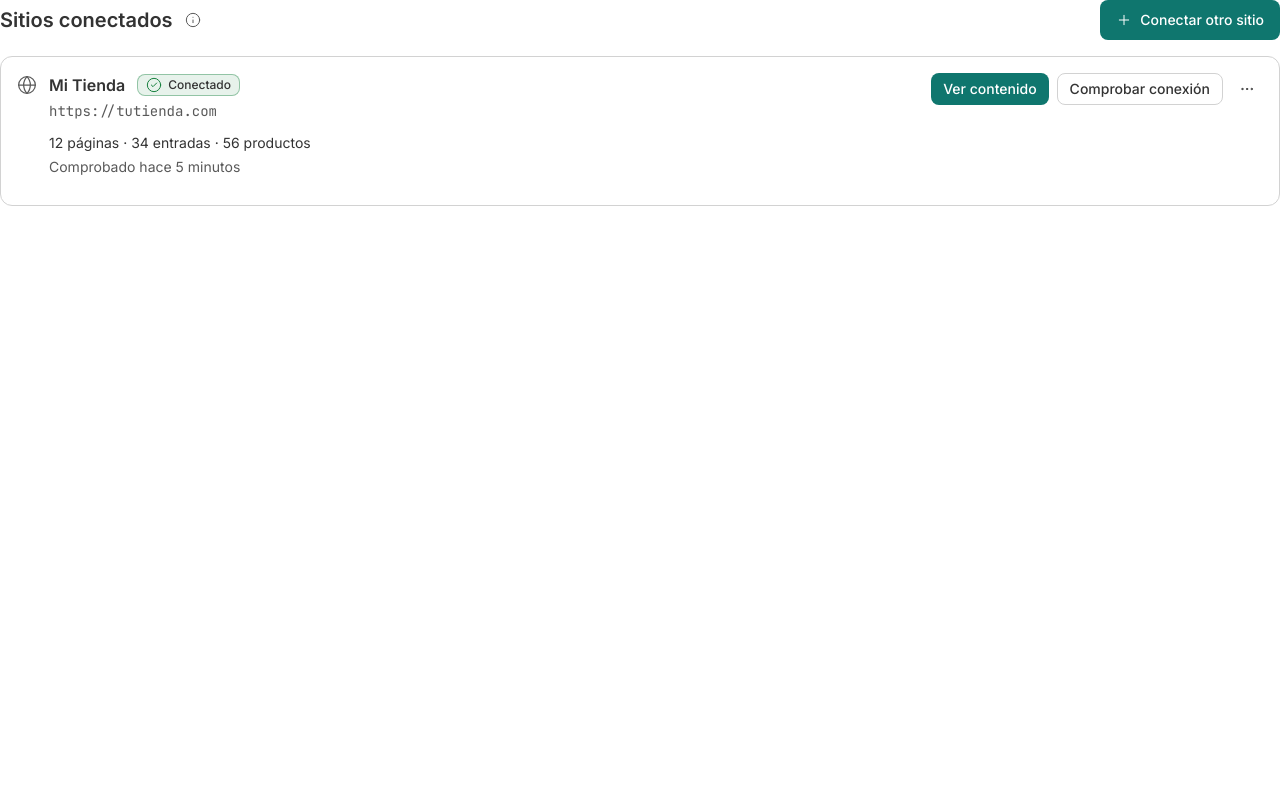
Test: Configuración → Sitios conectados › desconectar y quitar › Cancelar no quita nada
Click the button named "Más acciones para Mi Tienda".
click(1247, 89)  # box [1231,73,1263,105]
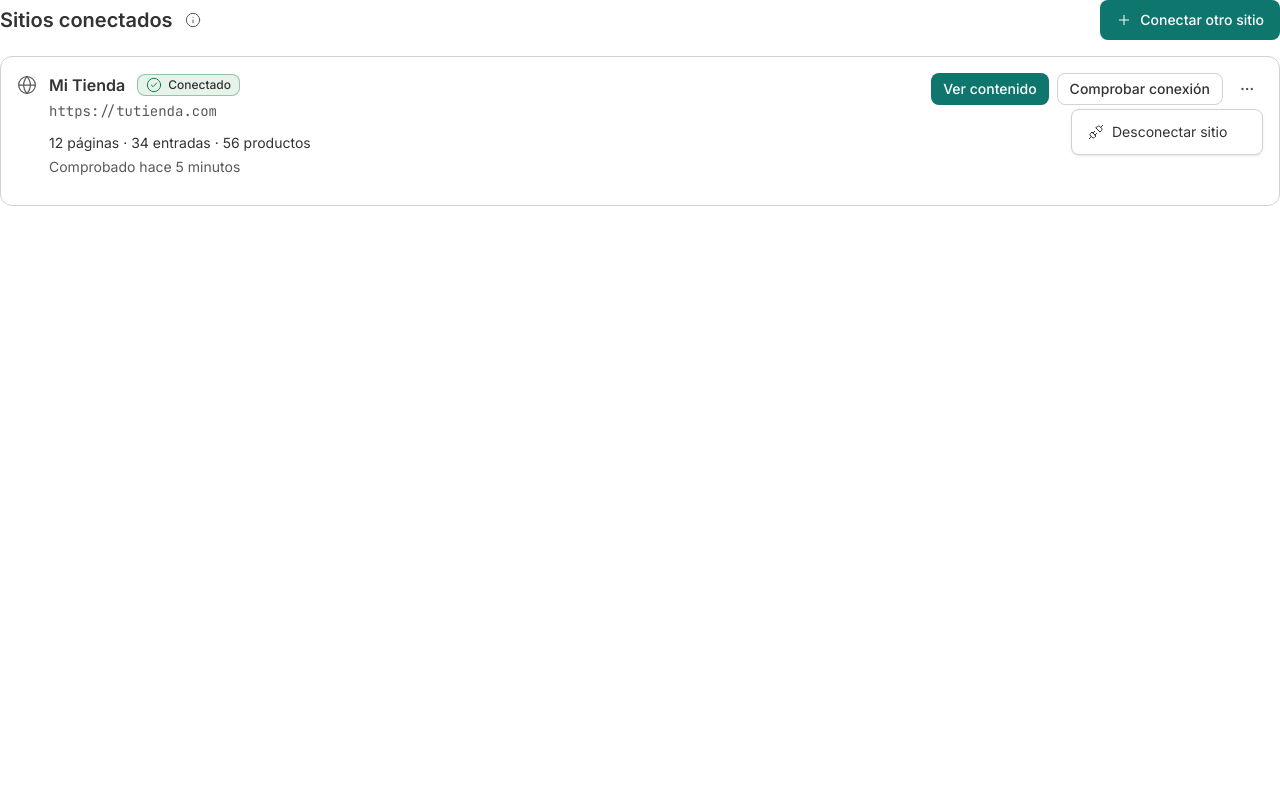
Click the menu item "Desconectar sitio".
click(1158, 132)  # box [1088,123,1227,140]
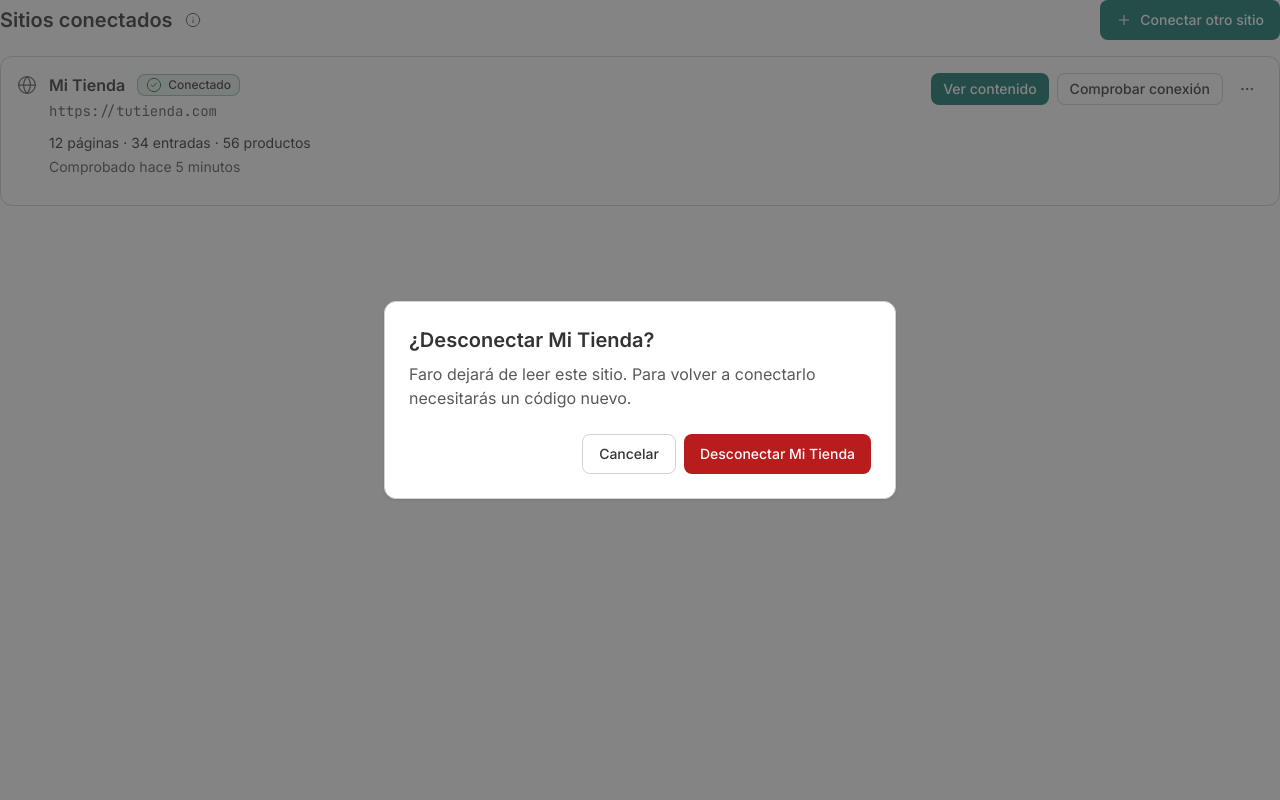
Click the button "Cancelar".
click(629, 454)  # box [582,434,676,474]
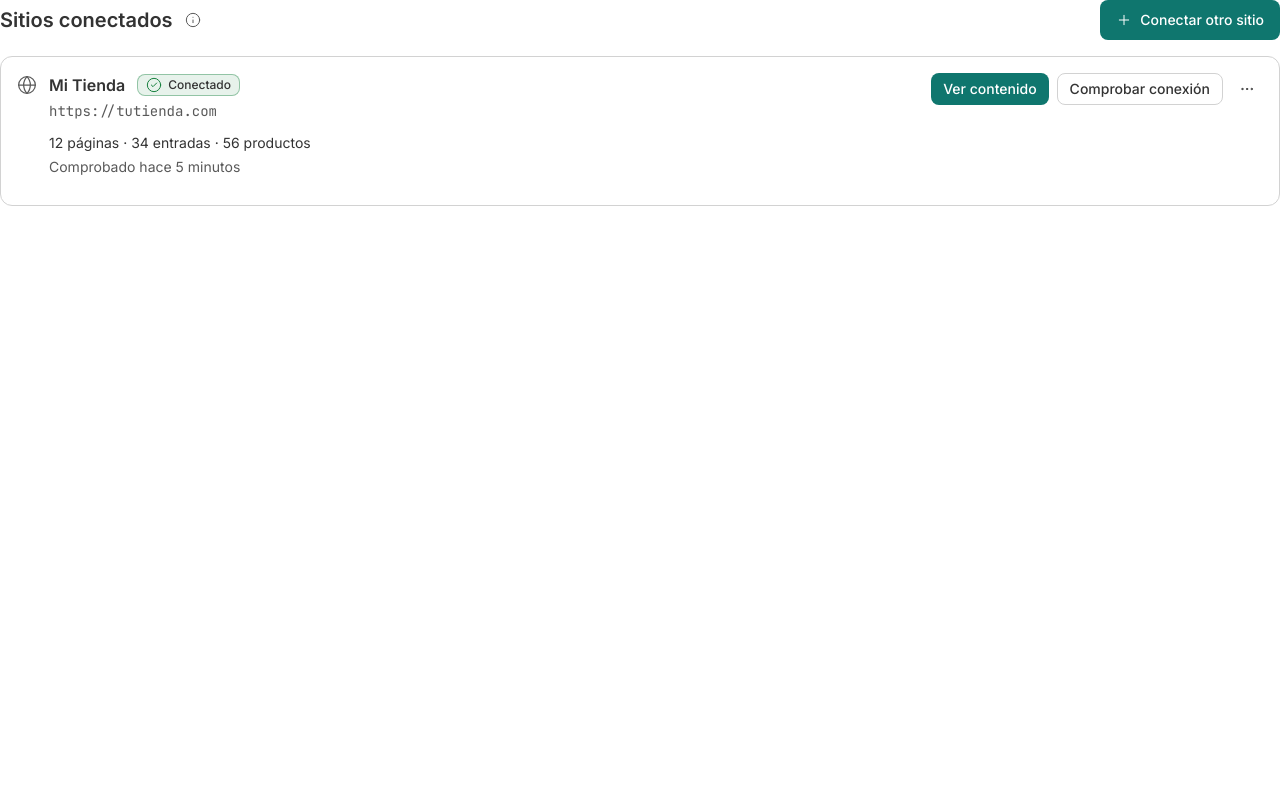
Expected: the dialog is gone
